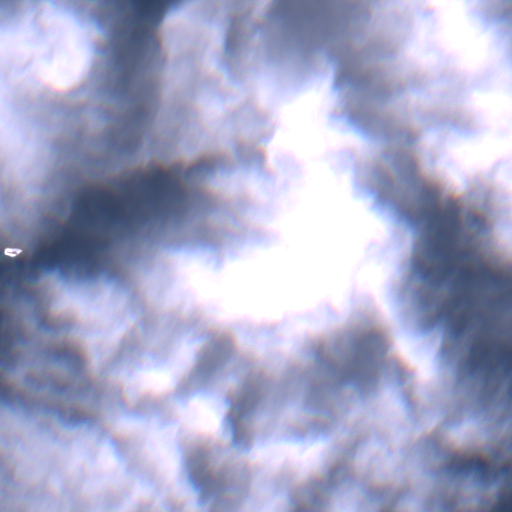Iceberg: (4, 248, 21, 256)
